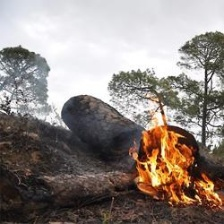fire: (127, 116, 223, 216)
